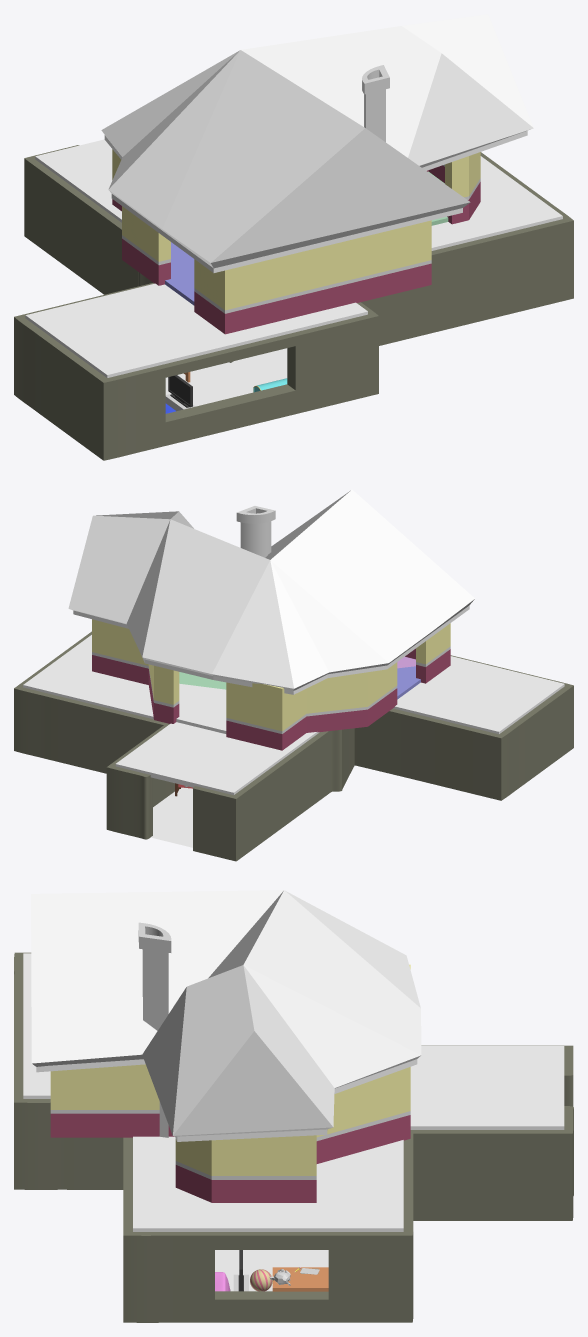
Rendered from navigation.fbx.
The picture shows the model from 3 angles, top to bottom: view 1: azimuth 30°, elevation 25°; view 2: azimuth 150°, elevation 25°; view 3: azimuth 270°, elevation 25°; orthographic projection. The views are drawn at different scales.
Visible parts, largest first — view 1: path121296.002, path122076, path122052.001, path121298.002, path122052, path121298, path121298.001, Plane.009, path121296, television.001; view 2: path121296.002, path122076, path122052.001, path121298, path121298.001, path121296, path122052, Plane.009, path121298.002; view 3: path121296.002, path122076, path122052.001, path121298.001, path121298.002, Plane.009, path122052, Cube.005.
Part boxes in pixels (x1,y1,x2,y2): path121296.002: [101, 14, 533, 272]; path122076: [14, 145, 573, 460]; path122052.001: [25, 139, 562, 377]; path121298.002: [194, 220, 431, 334]; path122052: [165, 348, 287, 406]; path121298: [112, 149, 170, 285]; path121298.001: [427, 152, 480, 224]; Plane.009: [362, 65, 389, 142]; path121296: [165, 171, 448, 305]; television.001: [168, 375, 192, 407]; path121296.002: [68, 489, 474, 694]; path122076: [14, 631, 573, 861]; path122052.001: [23, 635, 564, 795]; path121298: [226, 662, 397, 750]; path121298.001: [92, 619, 179, 723]; path121296: [176, 656, 420, 733]; path122052: [151, 787, 192, 847]; Plane.009: [236, 506, 275, 557]; path121298.002: [405, 623, 450, 683]; path121296.002: [31, 890, 421, 1141]; path122076: [14, 952, 573, 1322]; path122052.001: [23, 953, 564, 1231]; path121298.001: [175, 1067, 410, 1202]; path121298.002: [50, 1064, 174, 1137]; Plane.009: [138, 922, 171, 1137]; path122052: [215, 1250, 328, 1291]; Cube.005: [272, 1267, 328, 1291].
Bounding box in the file's own units: 2442 × 1181 × 2041.
